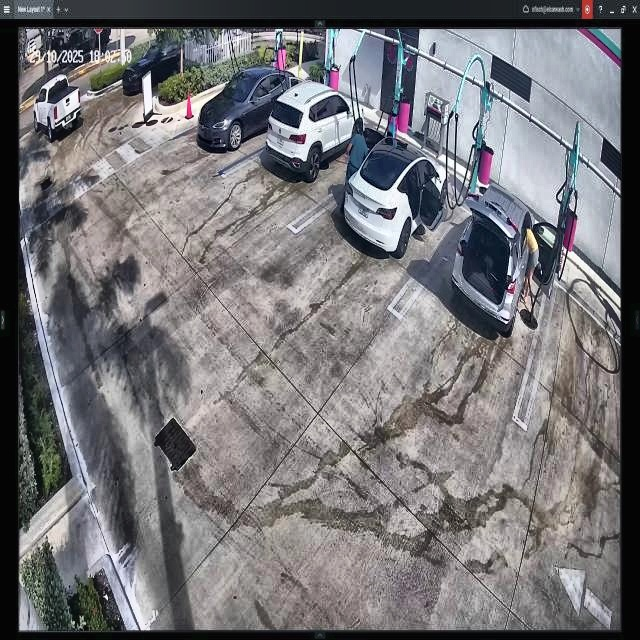Car: (452, 183, 560, 337), (343, 136, 448, 258), (268, 81, 364, 181), (197, 63, 302, 150)
